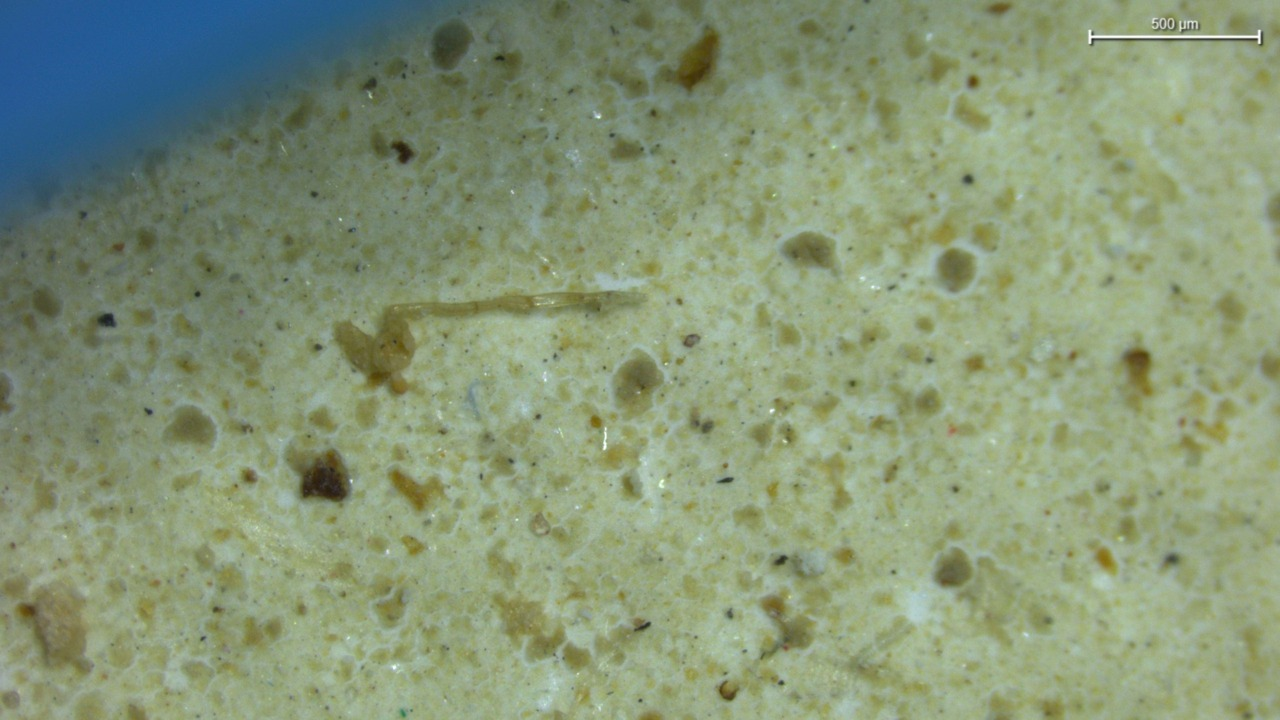microplastic_fragment: (335, 318, 415, 378), (792, 549, 826, 576)
